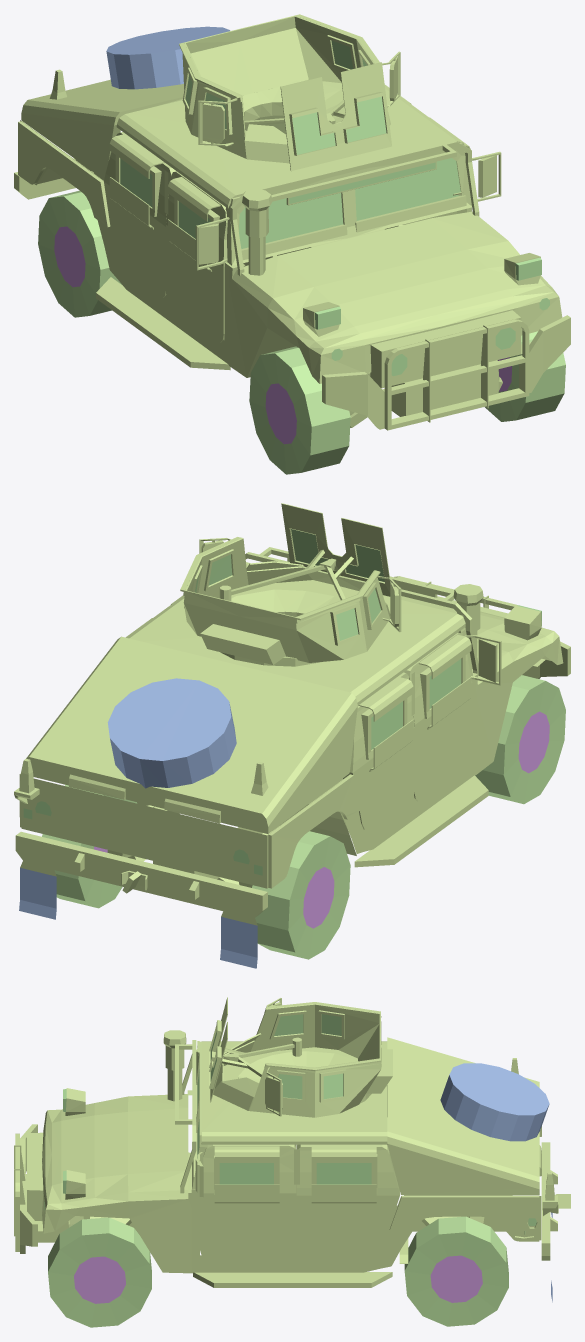
File: land-wheeled-humvee-minigun.glb
3 renders of one model, top to bottom at view 1: azimuth 30°, elevation 25°; view 2: azimuth 150°, elevation 25°; view 3: azimuth 270°, elevation 25°, orthographic. The views are drawn at different scales.
Parts seen in each view (by area): view 1: CC_WHL_05_Minigun_01, CC_WHL_05_Turret, CC_WHL_05_Fastback_RearRight_1, CC_WHL_05_Fastback_RearRight_3, CC_WHL_05_Fastback_RearRight_0; view 2: CC_WHL_05_Minigun_01, CC_WHL_05_Turret, CC_WHL_05_Fastback_RearRight_3, CC_WHL_05_Fastback_RearRight_1, CC_WHL_05_Fastback_RearRight_2; view 3: CC_WHL_05_Minigun_01, CC_WHL_05_Turret, CC_WHL_05_Fastback_RearRight_0, CC_WHL_05_Fastback_RearRight_2.
Boxes of the visible parts, box(x1,y1,x2,y2) form: CC_WHL_05_Minigun_01: box(14, 26, 570, 430); CC_WHL_05_Turret: box(179, 14, 400, 170); CC_WHL_05_Fastback_RearRight_1: box(249, 346, 350, 474); CC_WHL_05_Fastback_RearRight_3: box(38, 190, 122, 317); CC_WHL_05_Fastback_RearRight_0: box(485, 331, 565, 421); CC_WHL_05_Minigun_01: box(14, 547, 570, 968); CC_WHL_05_Turret: box(180, 503, 401, 664); CC_WHL_05_Fastback_RearRight_3: box(252, 831, 350, 959); CC_WHL_05_Fastback_RearRight_1: box(475, 675, 565, 804); CC_WHL_05_Fastback_RearRight_2: box(42, 785, 137, 908); CC_WHL_05_Minigun_01: box(14, 1030, 570, 1302); CC_WHL_05_Turret: box(209, 997, 392, 1117); CC_WHL_05_Fastback_RearRight_0: box(48, 1217, 151, 1327); CC_WHL_05_Fastback_RearRight_2: box(404, 1216, 508, 1326).
Bounding box in the file's own units: 3.07 × 2.99 × 5.84.
